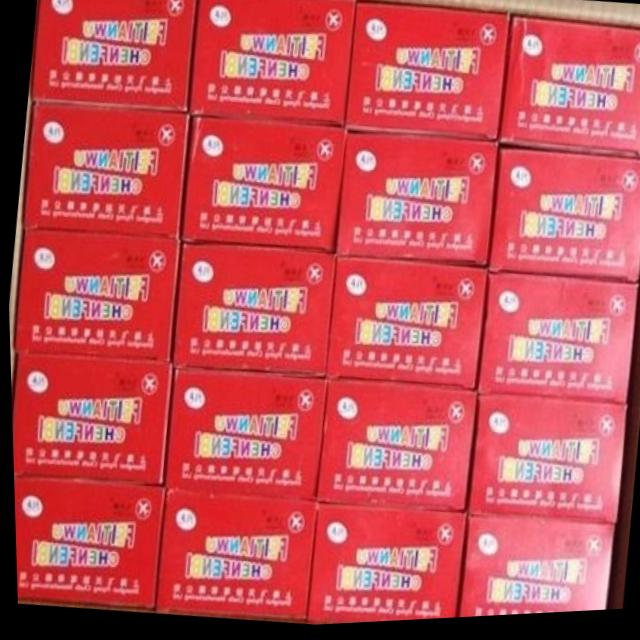box: (345, 5, 508, 147), (22, 101, 187, 241), (178, 119, 344, 256), (164, 368, 326, 507), (334, 133, 495, 272), (10, 231, 177, 363), (311, 380, 473, 515), (172, 246, 335, 380), (187, 0, 354, 129), (150, 493, 315, 623), (323, 260, 483, 393), (463, 397, 621, 530), (10, 354, 170, 485), (486, 153, 640, 289), (475, 279, 633, 409), (496, 21, 640, 163), (11, 477, 162, 608), (28, 0, 196, 113), (302, 508, 462, 626), (454, 521, 611, 622)
